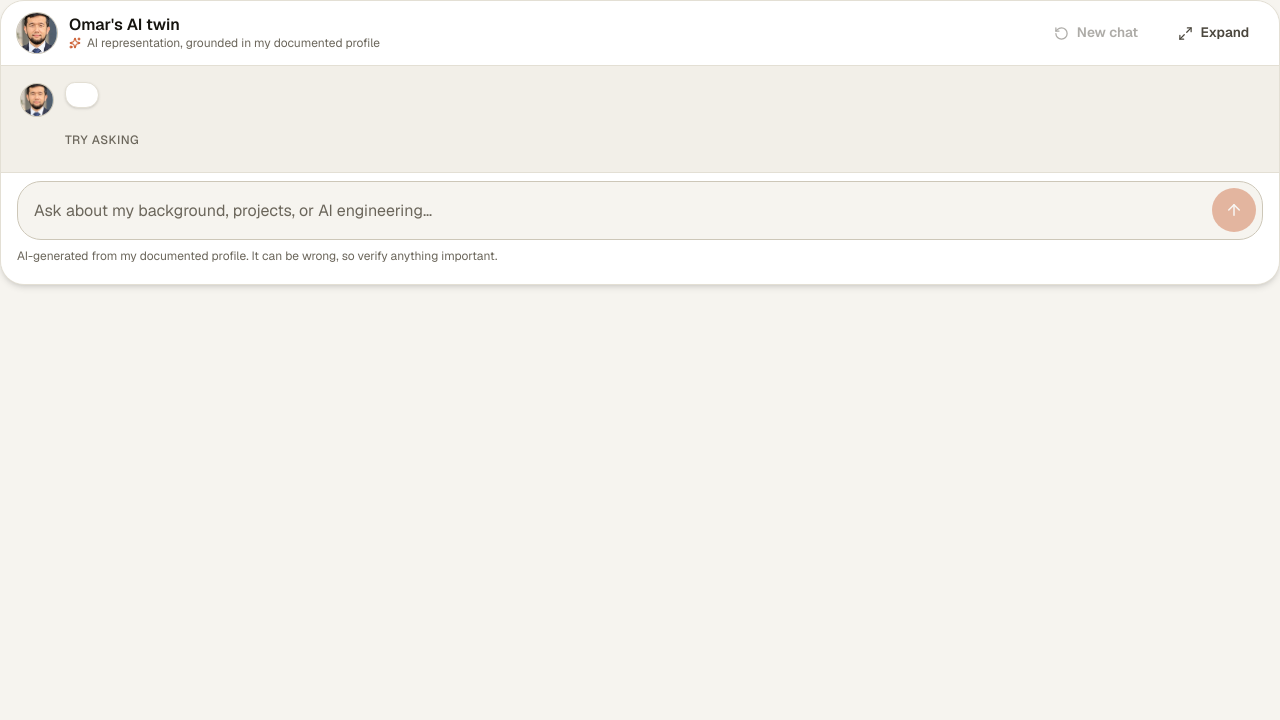
Test: digital twin chat › restores the conversation from sessionStorage after a reload
The width and height of the screenshot is (1280, 720).
Type "Remember me" into the text box named "Message to Omar" at (619, 211), box [34, 190, 1204, 232]
Then press Enter
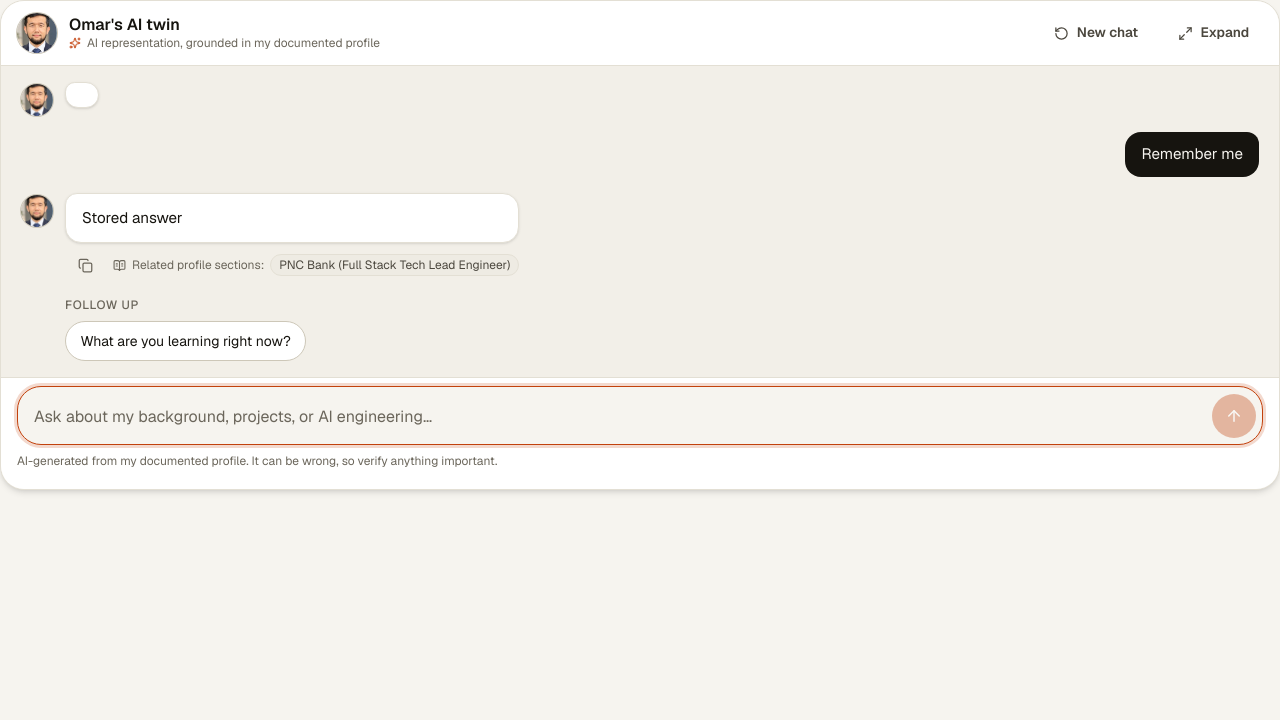
Expected: the text "Stored answer" is shown, [82, 208, 183, 227]
